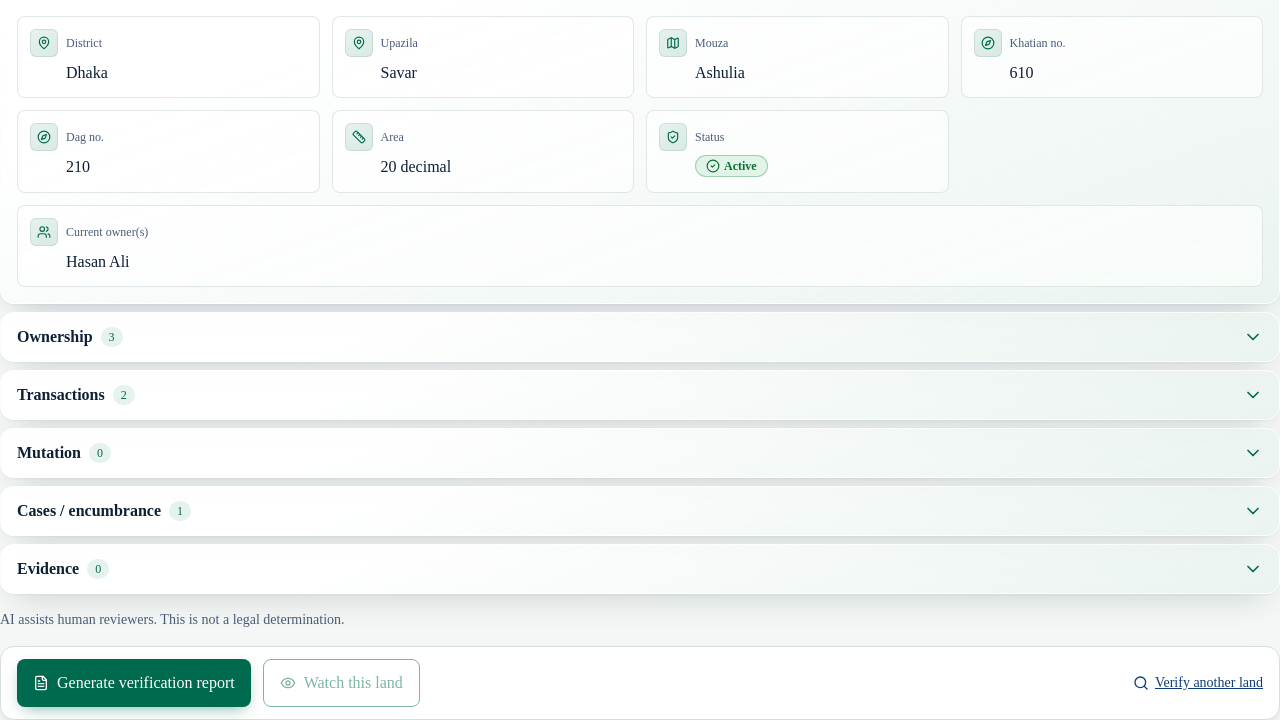
it: ResultView › shows cases / encumbrances in their section
The image size is (1280, 720).
(page scrolled)
Click the heading with test id "section-toggle".
click(89, 510)  # box [17,501,1263,521]
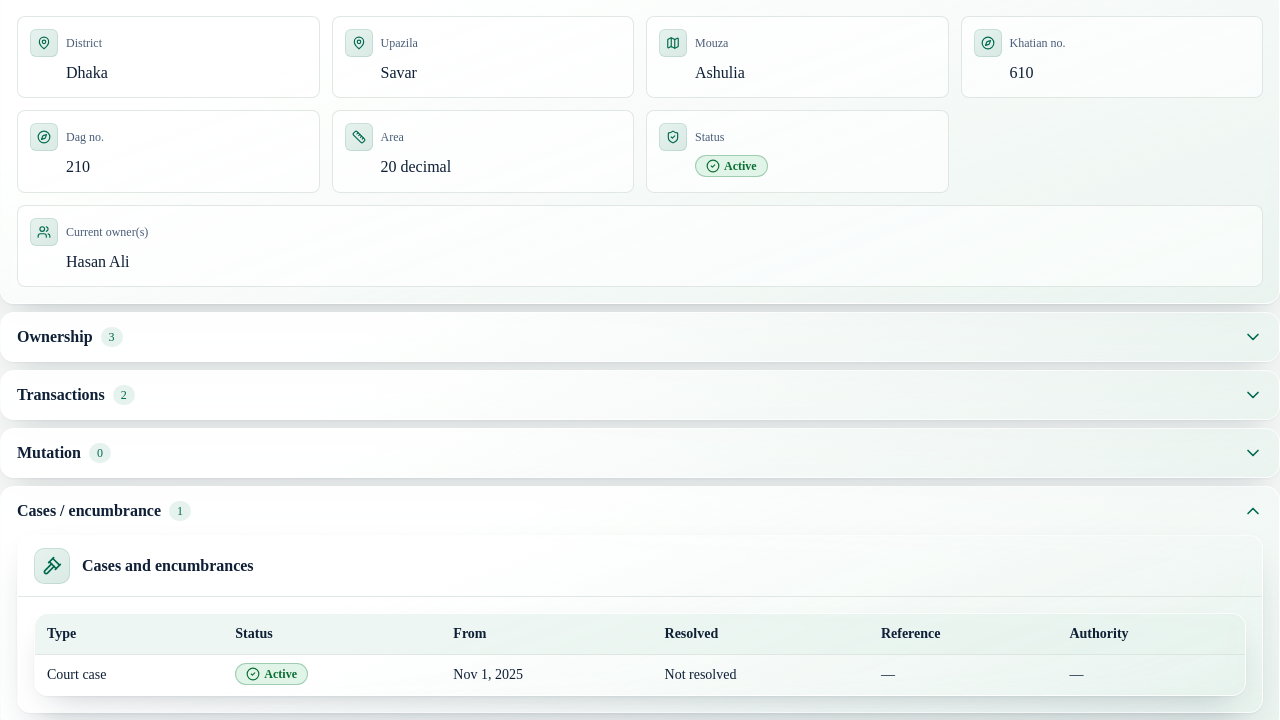
expect the row "Court case Active Nov 1, 2025 Not resolved — —" is shown: met, box [35,654,1245,695]
